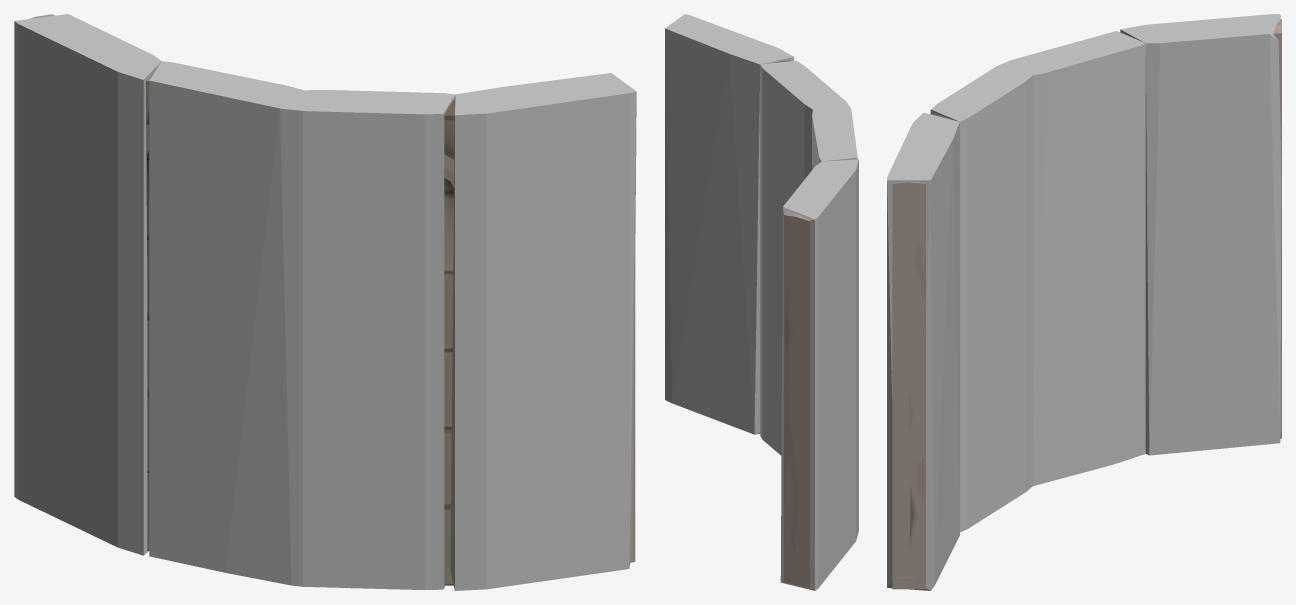
The model's file is SM_Bld_Wall_Curved_01.fbx.
The picture shows the model from 3 angles, left to right: view 1: azimuth 30°, elevation 25°; view 2: azimuth 150°, elevation 25°; view 3: azimuth 270°, elevation 25°; orthographic projection. The views are drawn at different scales.
Parts seen in each view (by area): view 1: SM_Bld_Wall_Curved_01_ConvexHulls, SM_Bld_Wall_Curved_01; view 2: SM_Bld_Wall_Curved_01_ConvexHulls, SM_Bld_Wall_Curved_01; view 3: SM_Bld_Wall_Curved_01_ConvexHulls, SM_Bld_Wall_Curved_01.
Boxes of the visible parts, <box> form: SM_Bld_Wall_Curved_01_ConvexHulls: <box>14,14,636,590</box>; SM_Bld_Wall_Curved_01: <box>29,14,635,585</box>; SM_Bld_Wall_Curved_01_ConvexHulls: <box>665,14,858,590</box>; SM_Bld_Wall_Curved_01: <box>774,60,810,588</box>; SM_Bld_Wall_Curved_01_ConvexHulls: <box>887,14,1281,590</box>; SM_Bld_Wall_Curved_01: <box>892,19,1281,589</box>.
Size of the model in its own units: 265 by 265 by 304.
3 materials, 2 textured.
